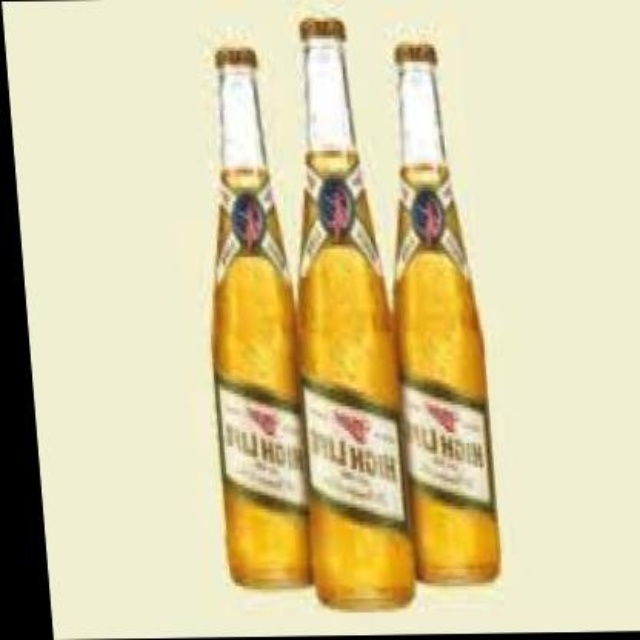trash: (298, 18, 412, 609), (394, 43, 498, 583), (214, 48, 309, 588)
